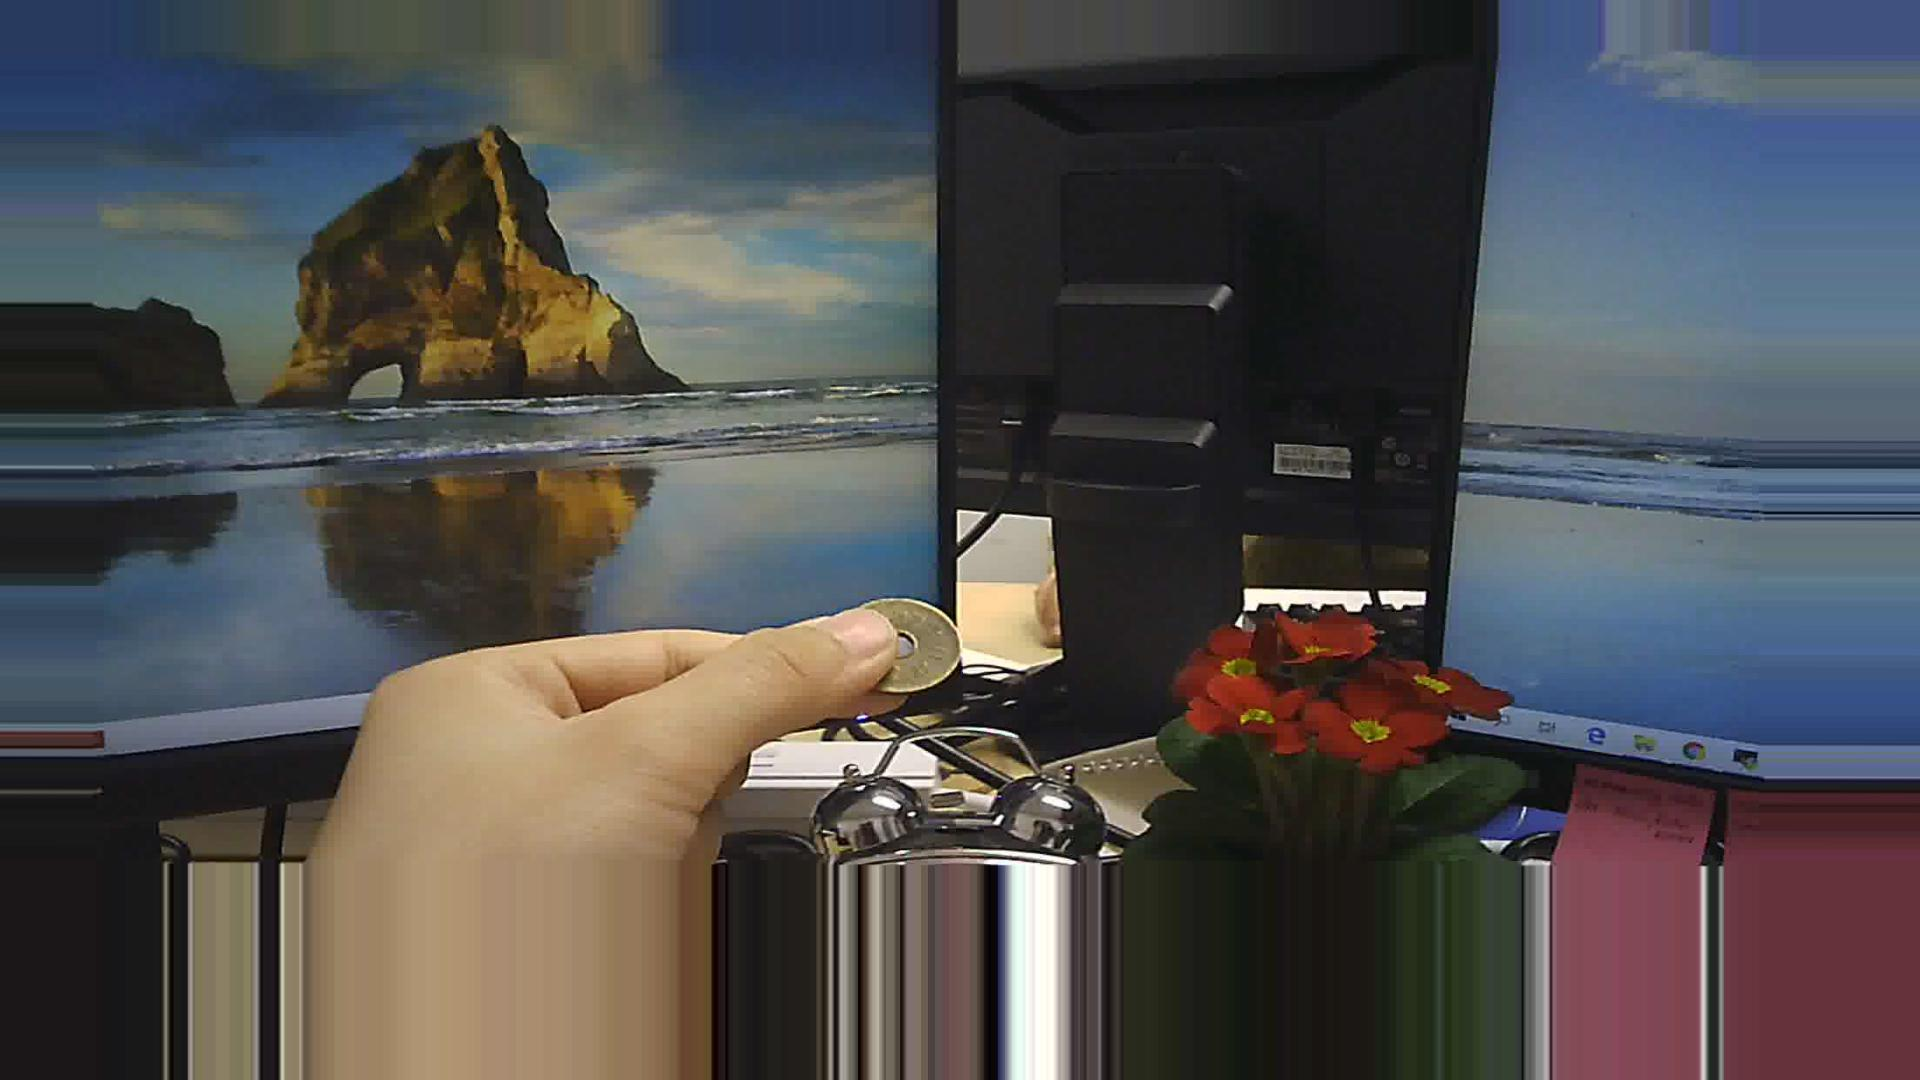5 Yen: (837, 583, 968, 695)
